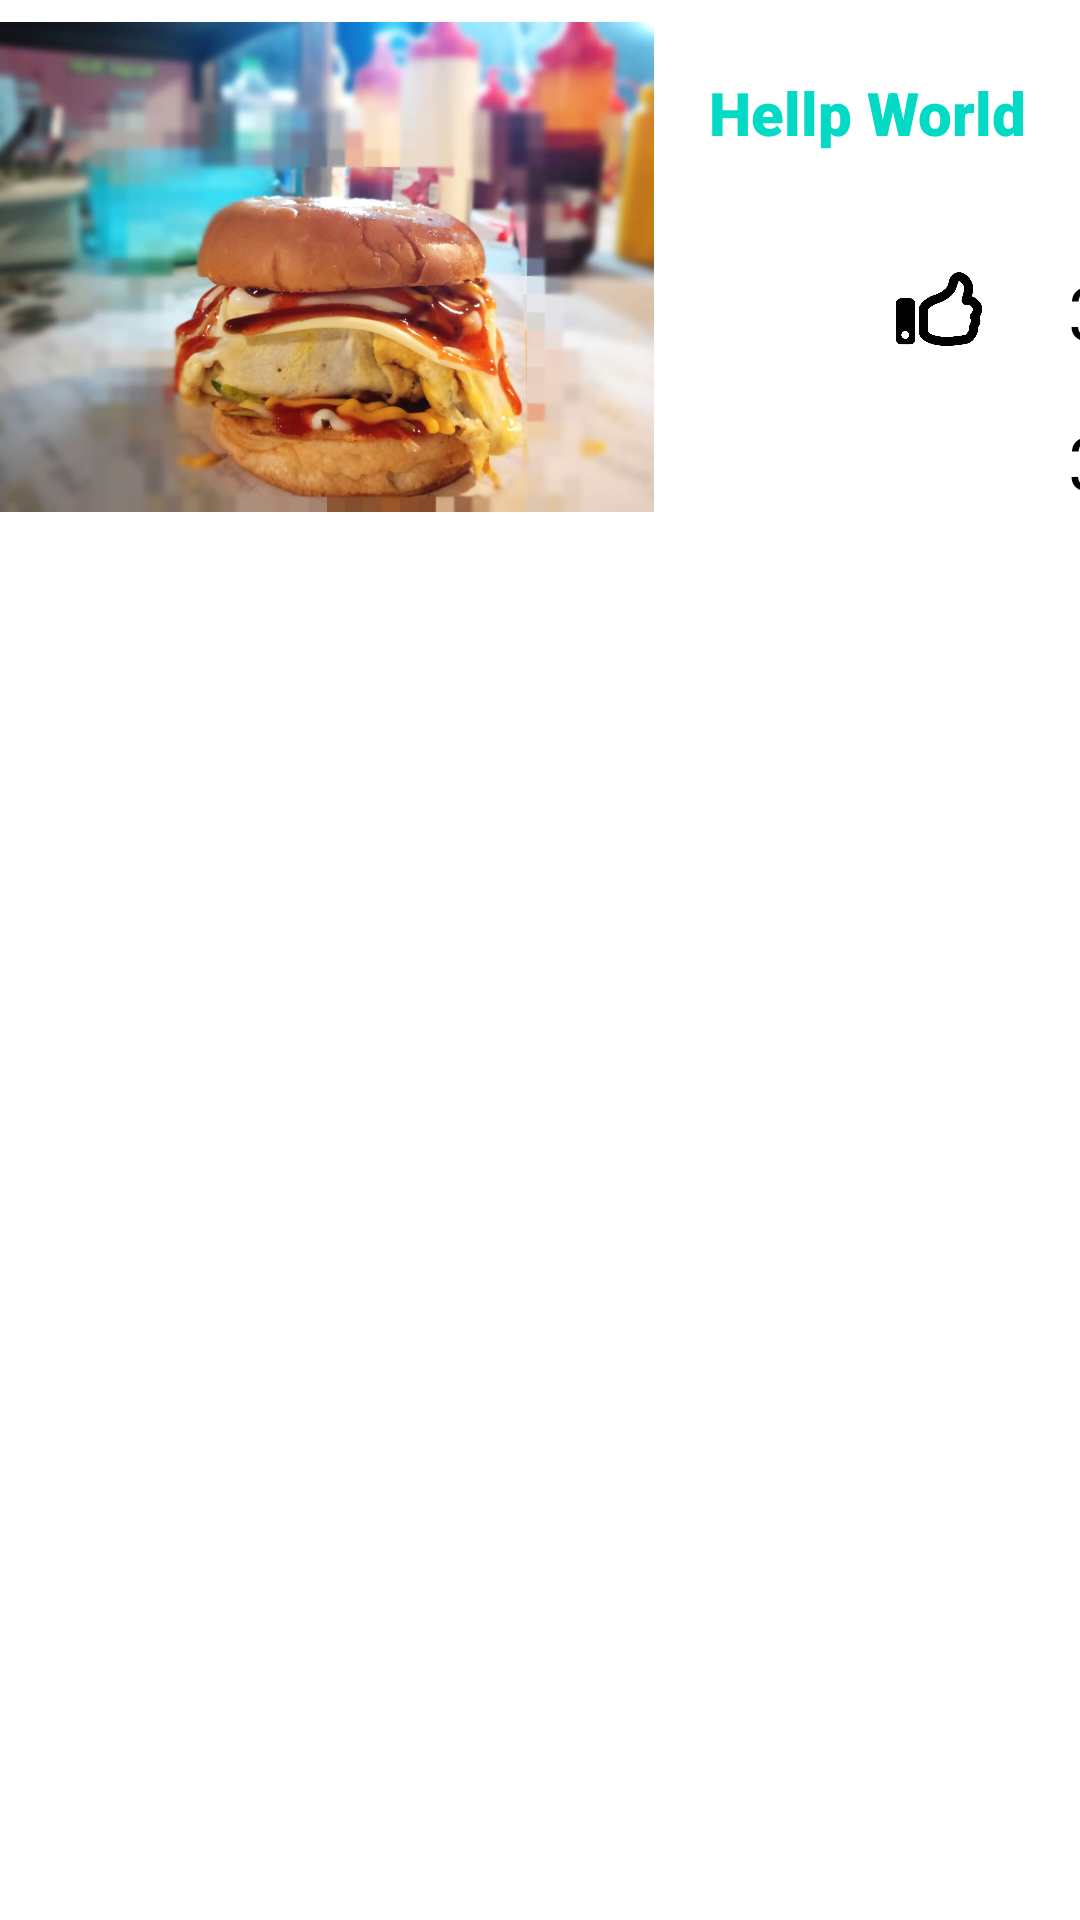

Locate icon controls on the screen. Image size 1080w x 1920h, boxes as BBox(x1, y1, x2, y2).
recommend: BBox(896, 272, 982, 346)
